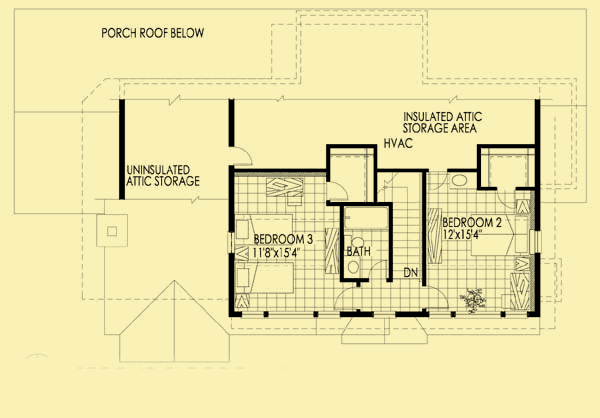bathroom has a bathtub with small and large sink: (341, 203, 393, 280)
bedroom has a double bed with bedside stands: (425, 171, 540, 319)
this bedroom has twin beds with bedside tables: (230, 169, 330, 320)
